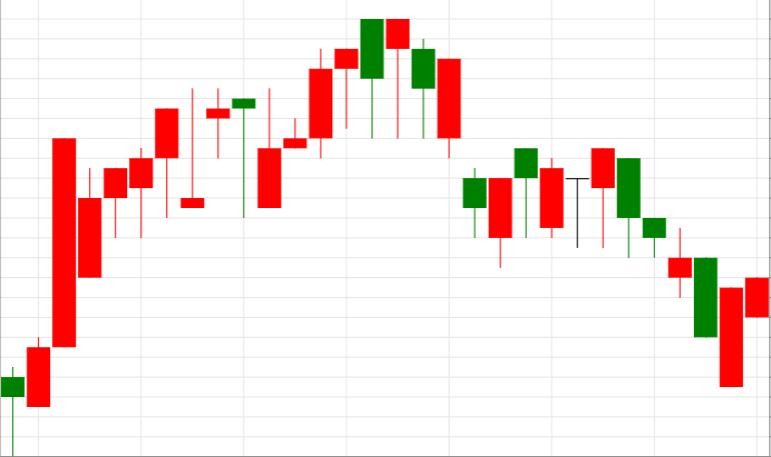hanging_man_fall: (258, 19, 410, 209)
